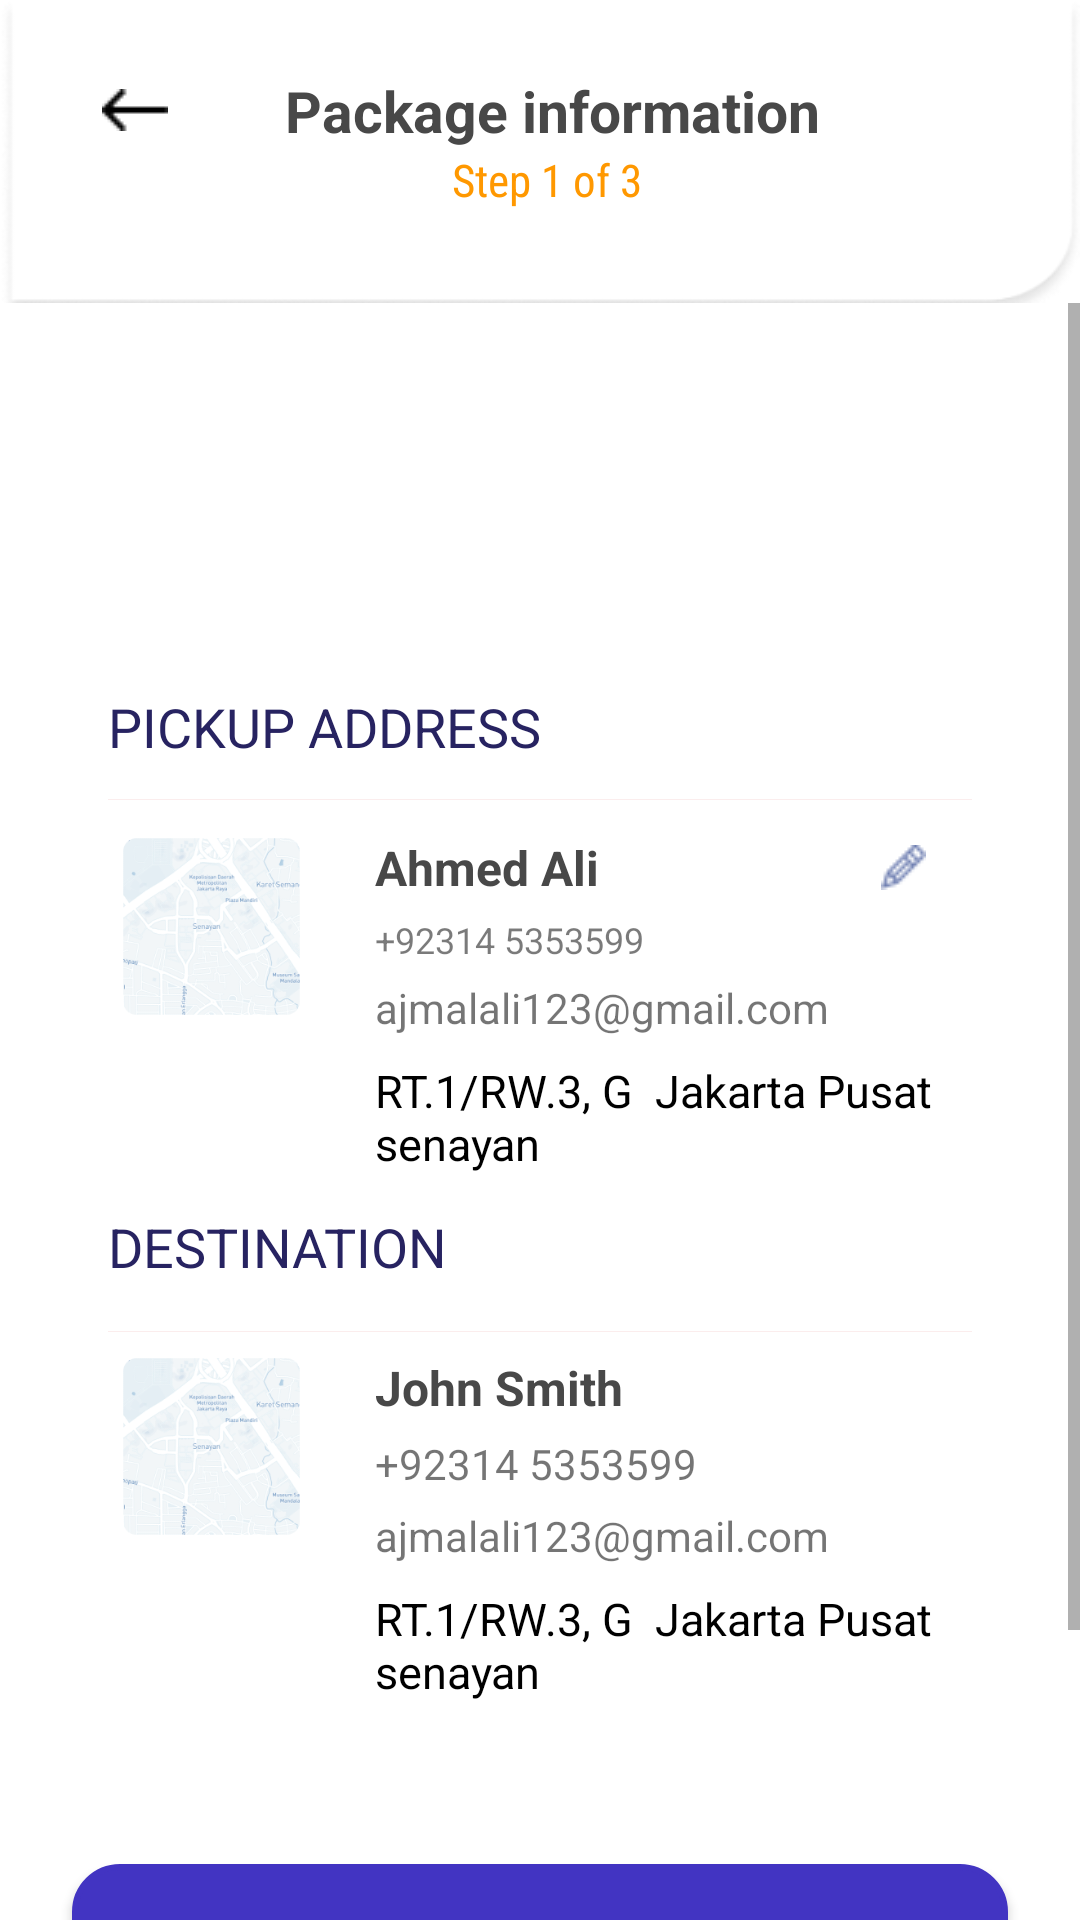

Icons on this 1080x1920 Android screen, each with its box as [x1,y1,x2,y2]:
recyclrview map: [123,838,300,1015], [123,1358,300,1535]
